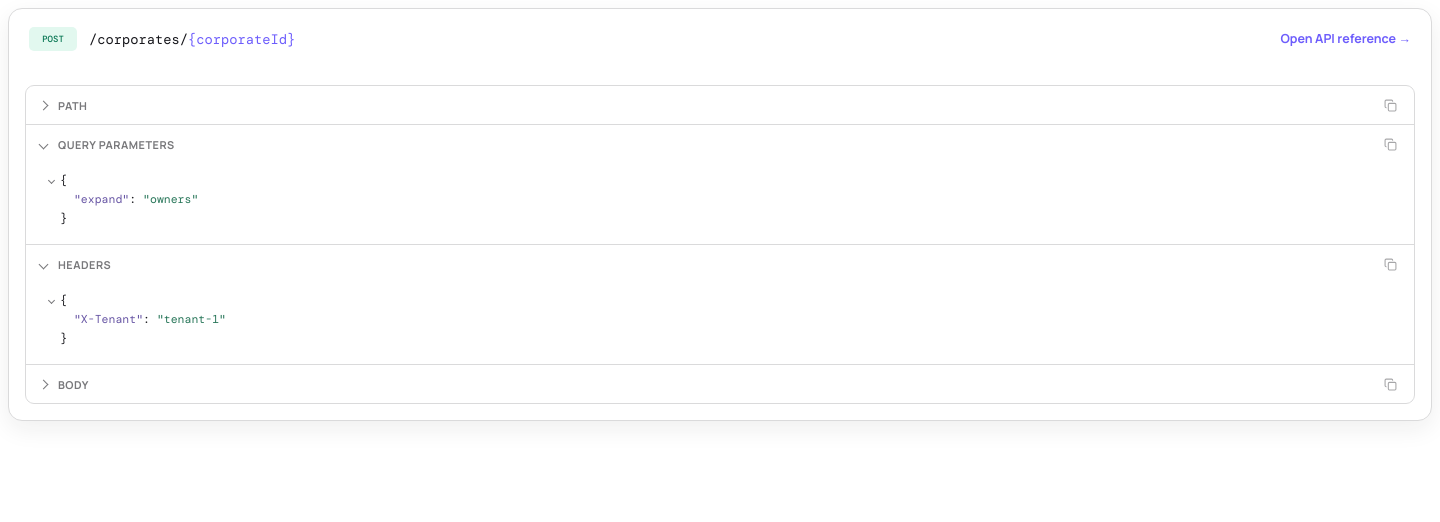
operation references › allows every preview section default to be overridden
Click the button "Body" at (64, 384), box x1=40 y1=376 x2=89 y2=393
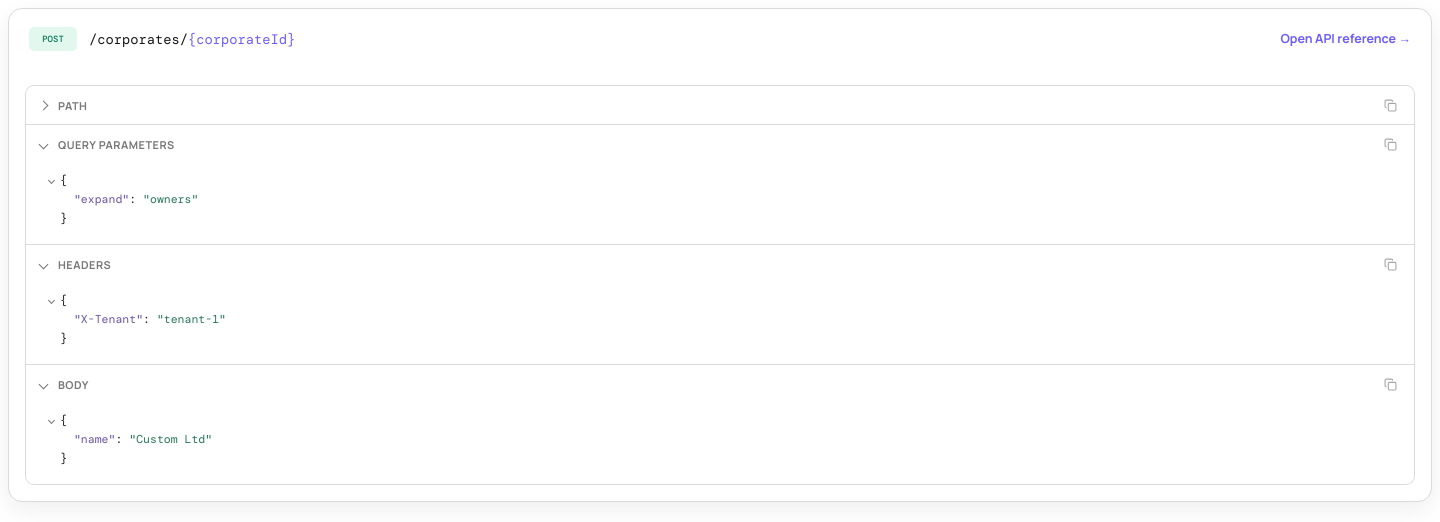
Result: the button "Body" is expanded at x1=40 y1=376 x2=89 y2=393
